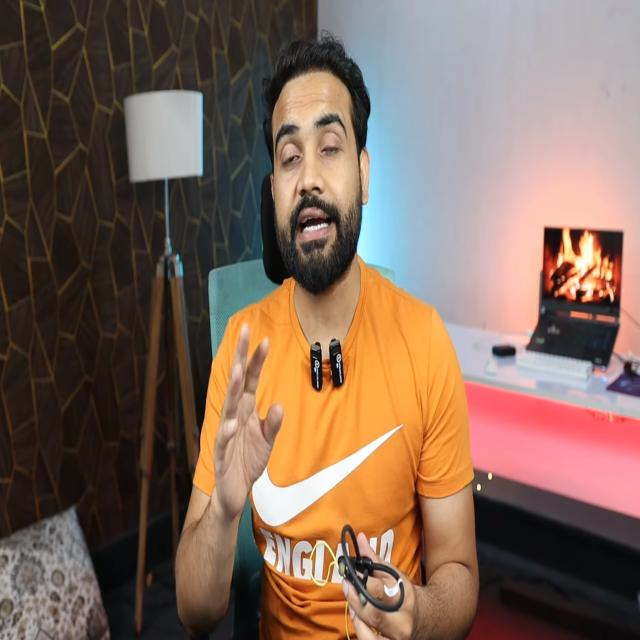Neckband: (309, 522, 404, 640)
